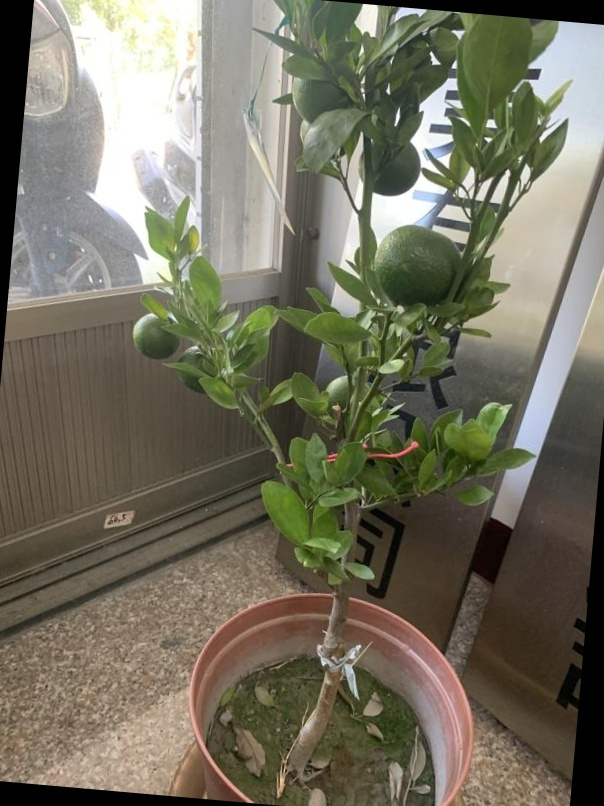Tangerine: (375, 221, 465, 309), (132, 311, 183, 360)
